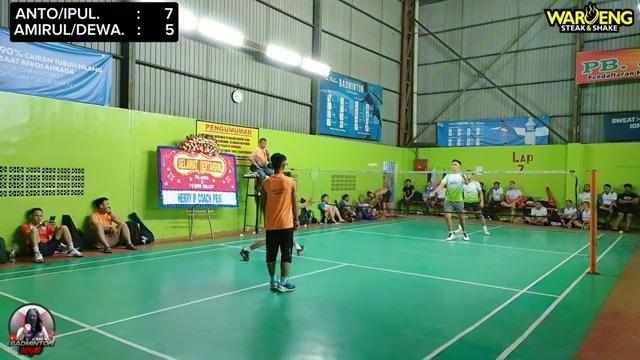Shuttlecock: (369, 159, 383, 169)
